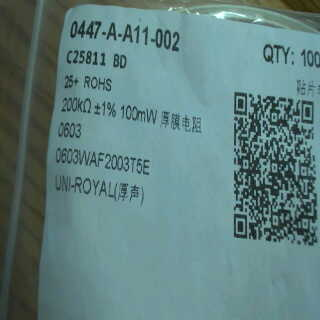200kR: (57, 93, 94, 115)
